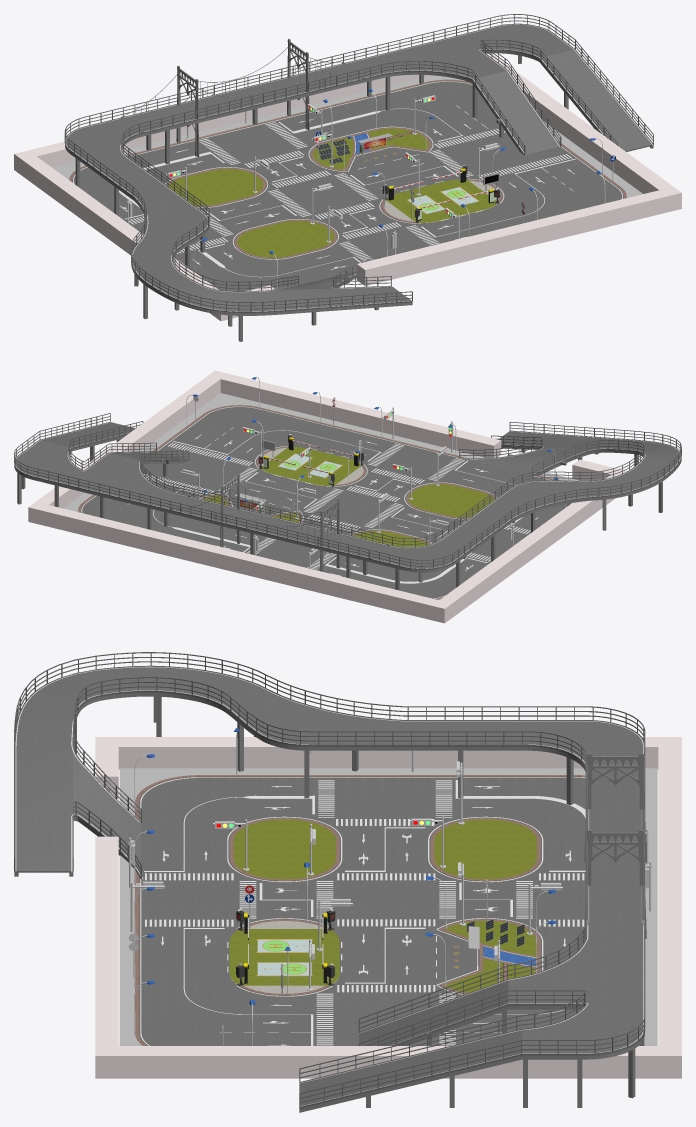
File: sandbox-dz-mr.glb
3 views of the same model, one above another, from view 1: azimuth 30°, elevation 25°; view 2: azimuth 150°, elevation 25°; view 3: azimuth 270°, elevation 25° (orthographic). The views are drawn at different scales.
Visible parts, largest first — view 1: Line2132581443, 桥面, 对象001, 桥护栏, 草地, Layer:008, 桥支撑, 桥立柱, 图形002, Line2132581452, 桥柱, 桥牙子 (+5 smaller); view 2: Line2132581443, 对象001, 桥面, 桥护栏, 草地, Layer:008, 桥支撑, 图形002, 桥立柱, 桥柱, 桥牙子, Line2132581452 (+5 smaller); view 3: Line2132581443, 桥面, 对象001, 桥护栏, 草地, 图形002, Layer:008, 桥支撑, Line2132581452, 桥立柱, 桥柱, 桥001 (+5 smaller).
Part boxes in pixels (x1=…): Line2132581443: x1=72, y1=81, x2=623, y2=291; 桥面: x1=65, y1=24, x2=653, y2=313; 对象001: x1=14, y1=53, x2=681, y2=321; 桥护栏: x1=64, y1=14, x2=653, y2=312; 草地: x1=168, y1=128, x2=497, y2=257; Layer:008: x1=119, y1=105, x2=575, y2=277; 桥支撑: x1=65, y1=50, x2=653, y2=315; 桥立柱: x1=64, y1=15, x2=653, y2=311; 图形002: x1=53, y1=75, x2=642, y2=280; Line2132581452: x1=69, y1=79, x2=626, y2=258; 桥柱: x1=75, y1=55, x2=568, y2=341; 桥牙子: x1=65, y1=24, x2=652, y2=311; Line2132581443: x1=80, y1=406, x2=571, y2=598; 对象001: x1=28, y1=370, x2=627, y2=623; 桥面: x1=14, y1=422, x2=680, y2=569; 桥护栏: x1=14, y1=413, x2=681, y2=569; 草地: x1=203, y1=447, x2=494, y2=546; Layer:008: x1=127, y1=427, x2=538, y2=576; 桥支撑: x1=14, y1=435, x2=681, y2=572; 图形002: x1=63, y1=393, x2=579, y2=599; 桥立柱: x1=14, y1=413, x2=681, y2=568; 桥柱: x1=17, y1=439, x2=662, y2=590; 桥牙子: x1=15, y1=422, x2=680, y2=568; Line2132581452: x1=78, y1=405, x2=557, y2=599; Line2132581443: x1=139, y1=777, x2=585, y2=1045; 桥面: x1=14, y1=666, x2=644, y2=1108; 对象001: x1=95, y1=737, x2=681, y2=1078; 桥护栏: x1=14, y1=652, x2=645, y2=1107; 草地: x1=229, y1=819, x2=536, y2=992; 图形002: x1=119, y1=768, x2=657, y2=1045; Layer:008: x1=144, y1=780, x2=585, y2=1045; 桥支撑: x1=14, y1=692, x2=644, y2=1112; Line2132581452: x1=135, y1=775, x2=585, y2=1045; 桥立柱: x1=14, y1=653, x2=644, y2=1107; 桥柱: x1=74, y1=696, x2=644, y2=1107; 桥001: x1=584, y1=753, x2=646, y2=938.
Size of the model in its own units: 5.46 by 0.7478 by 3.97.
Materials: 60 (15 with a texture image).
